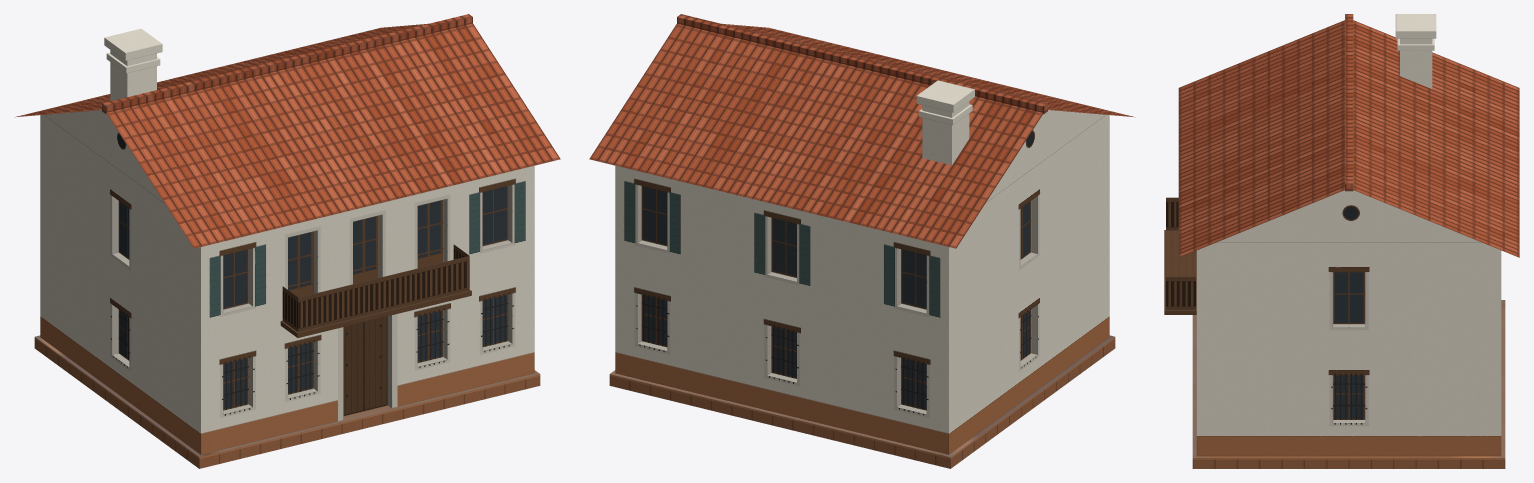
File: colonialhouse.glb
3 views of the same model, side by side, from view 1: azimuth 30°, elevation 25°; view 2: azimuth 150°, elevation 25°; view 3: azimuth 270°, elevation 25° (orthographic). The views are drawn at different scales.
Visible parts, largest first — view 1: ColonialHouse; view 2: ColonialHouse; view 3: ColonialHouse.
Boxes of the visible parts, x1,y1,x2,y2 form: ColonialHouse: (15,14,560,468); ColonialHouse: (589,14,1134,468); ColonialHouse: (1164,14,1519,468).
Bounding box in the file's own units: 9.9 × 8.49 × 8.75.
1 material, 1 textured.
